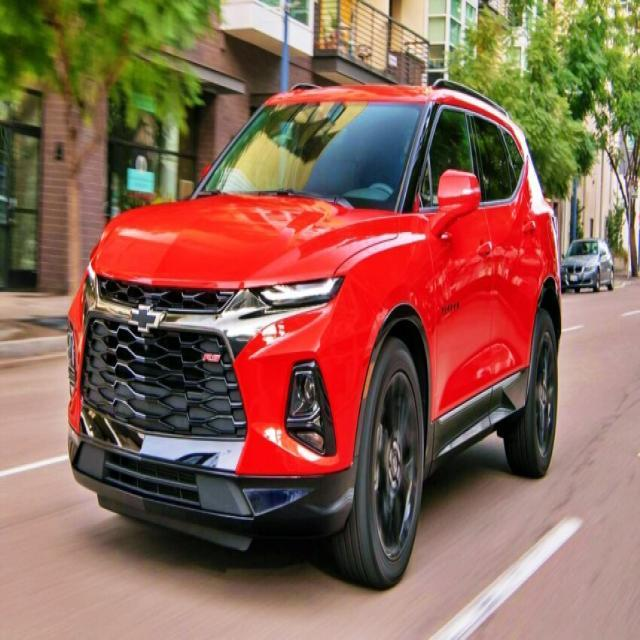sedan: (65, 76, 562, 590)
